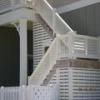stairs: (29, 6, 62, 74), (40, 64, 100, 98)
